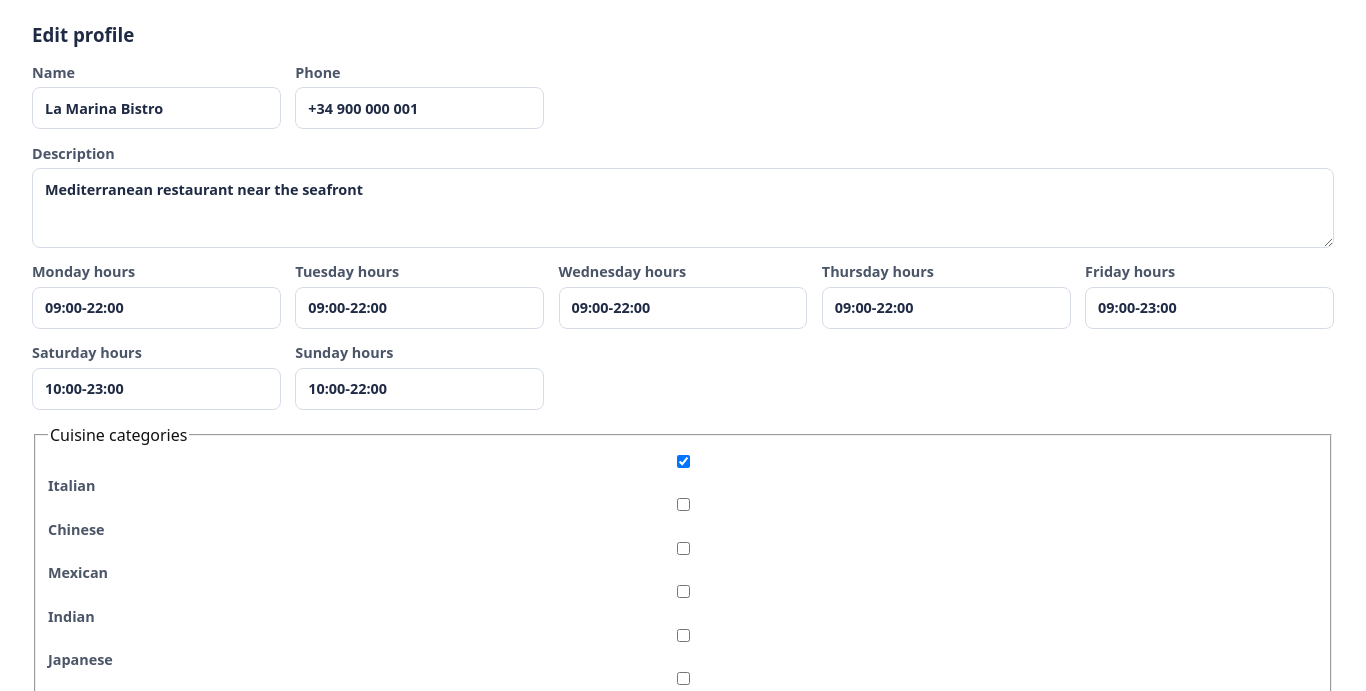
Scenario: RestaurantInformationPage › pads working hours on blur and submits edited profile payload
(page scrolled)
Replace the text in the field labelled "Monday hours" with "9-18" at (156, 308), box 32,287 -> 281,329
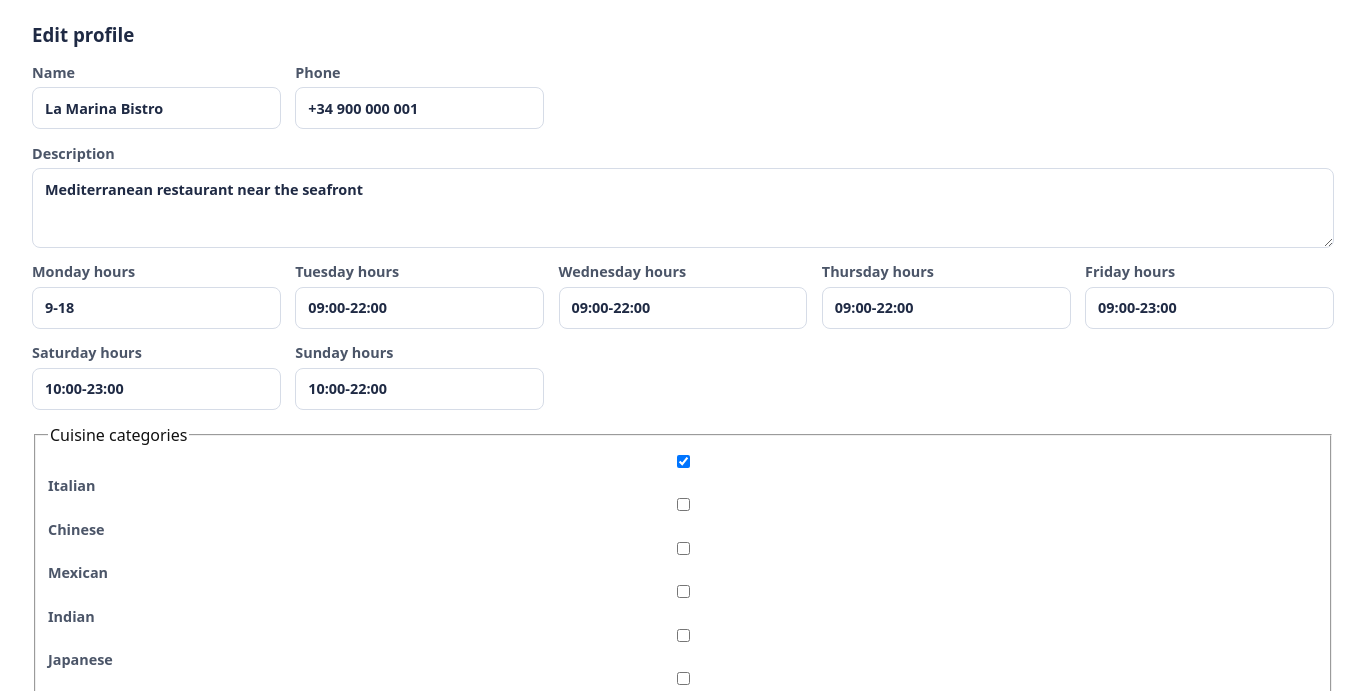
Leave the field labelled "Monday hours", box 32,287 -> 281,329
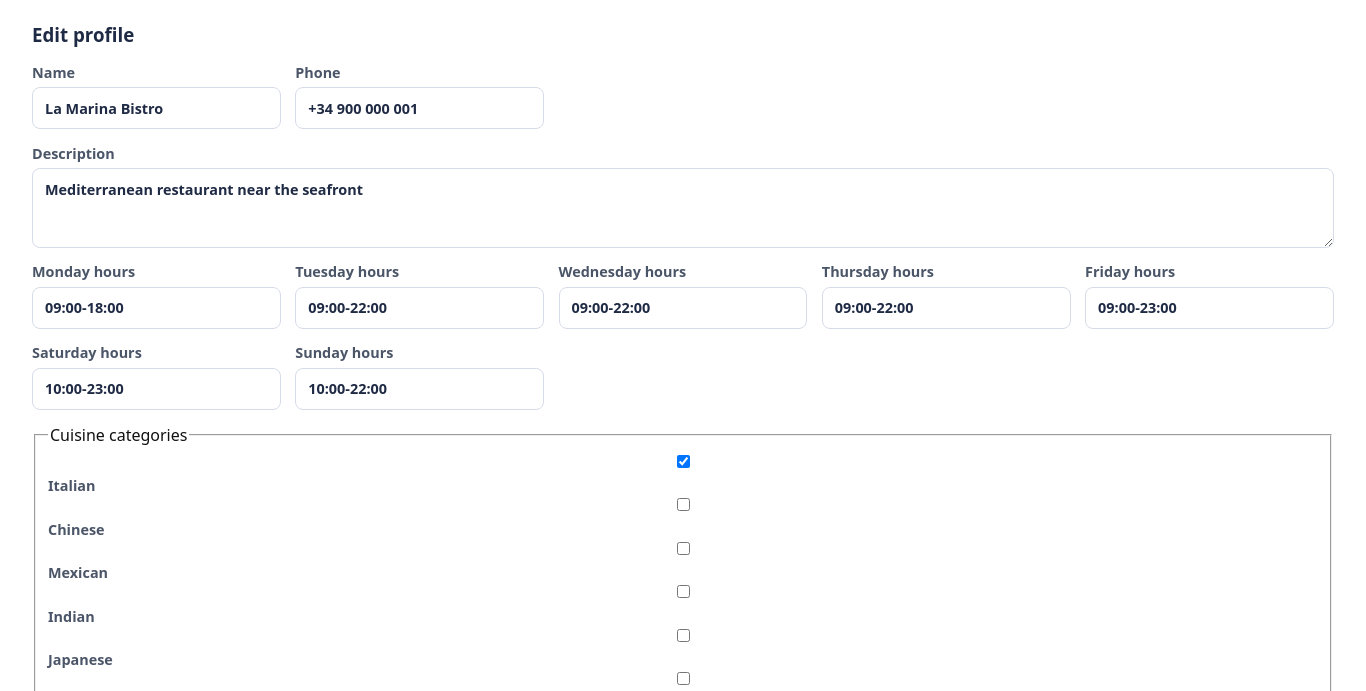
Check: the field labelled "Monday hours" holds "09:00-18:00", box 32,287 -> 281,329
Click the checkbox labelled "Japanese" at (684, 635), box 52,629 -> 1315,642
(page scrolled)
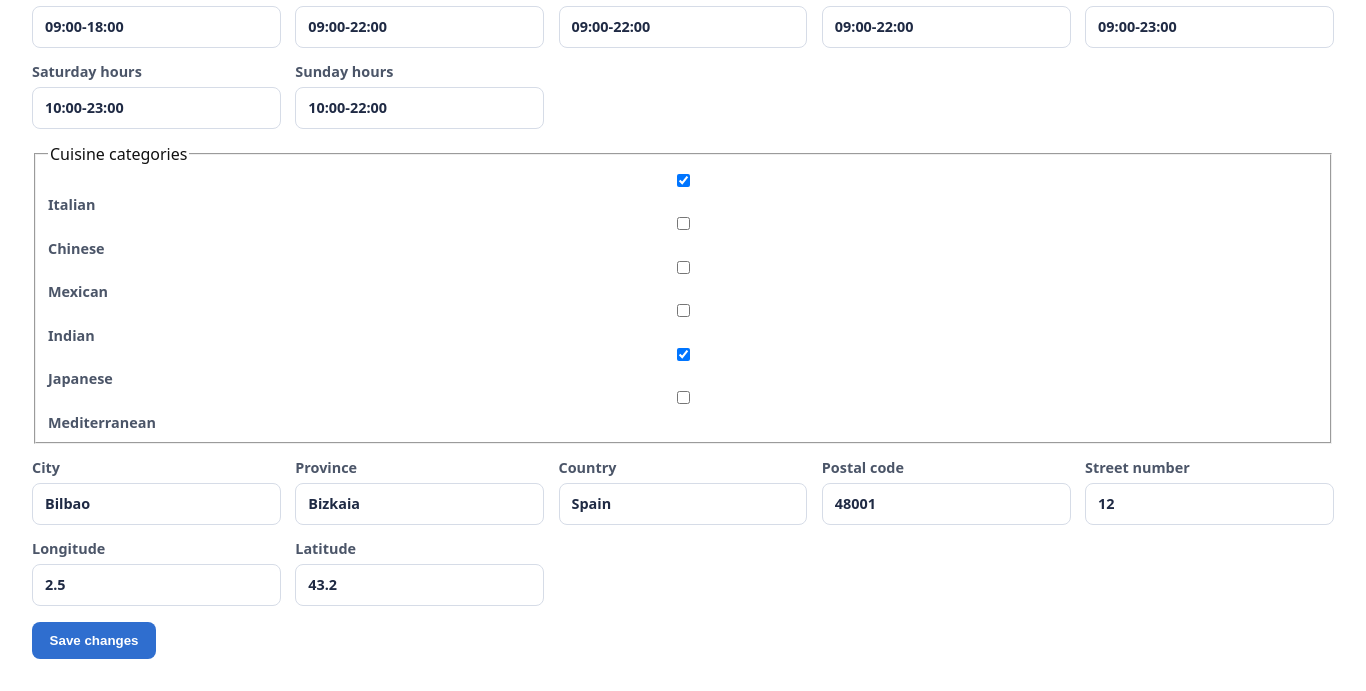
Replace the text in the field labelled "Longitude" with "2,75" at (156, 585), box 32,564 -> 281,606
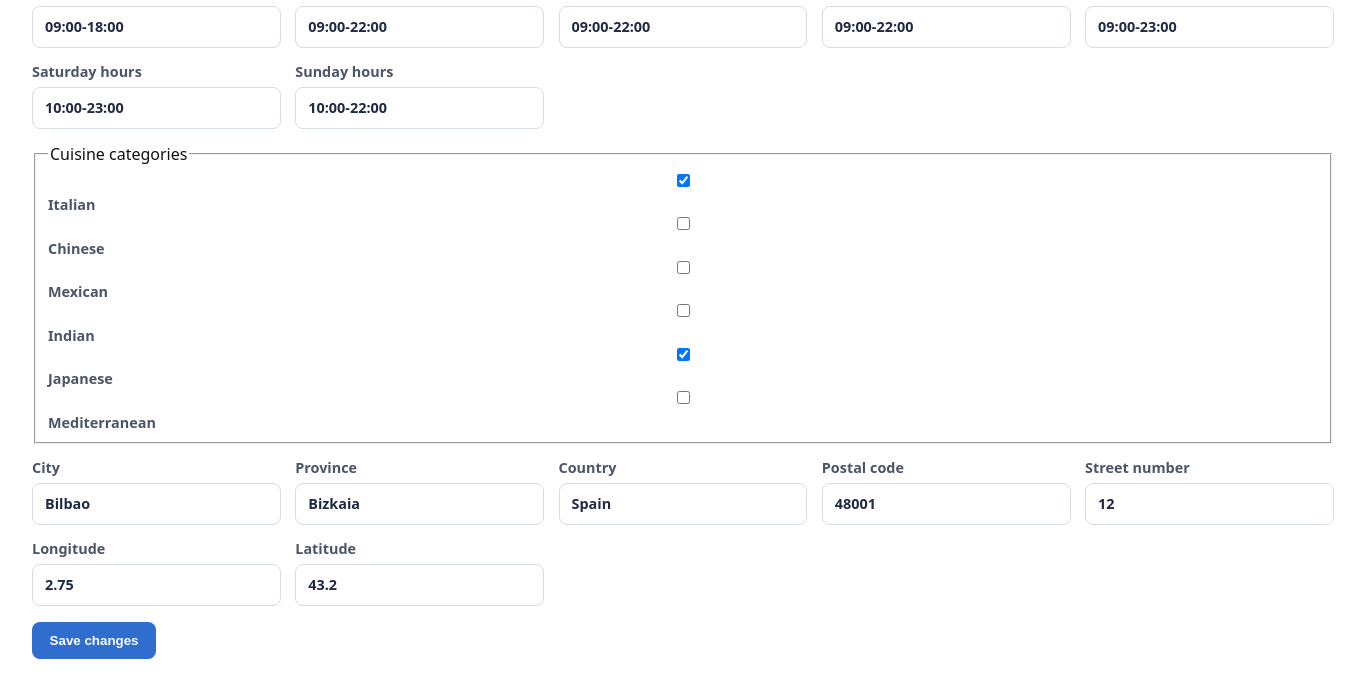
Replace the text in the field labelled "Latitude" with "43,11" at (420, 585), box 295,564 -> 544,606
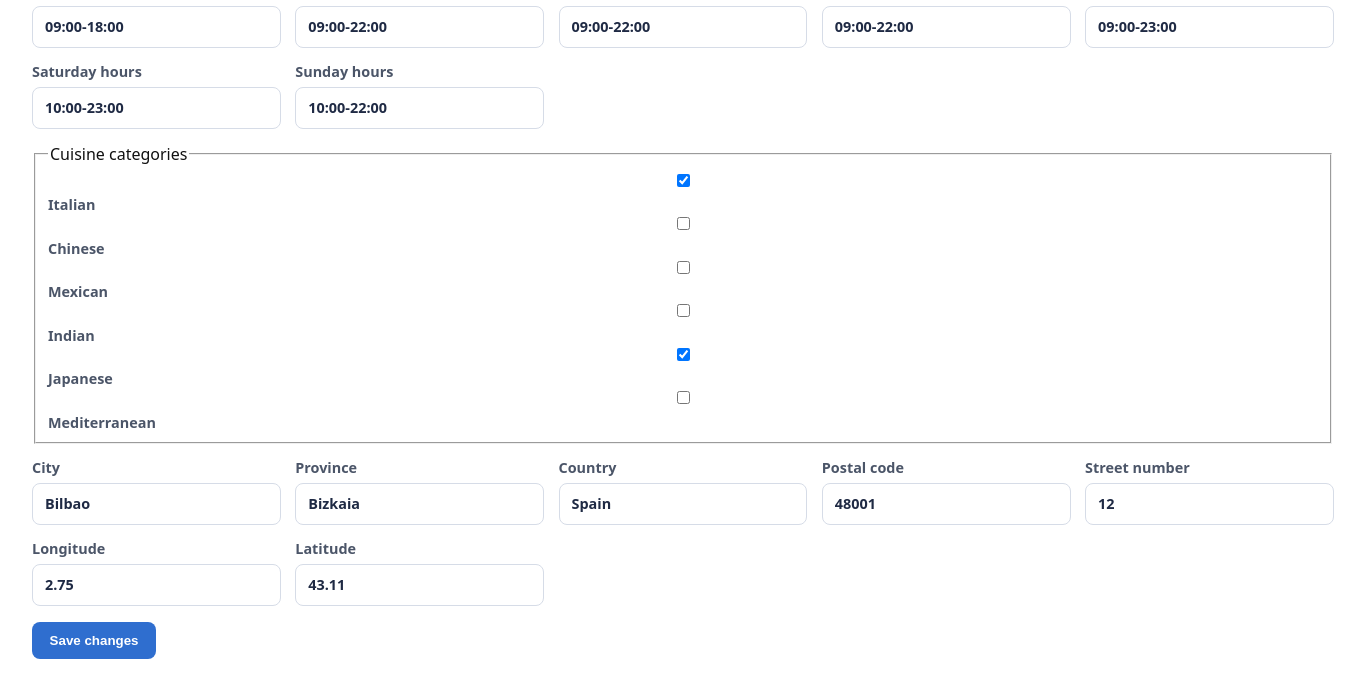
Click the button "Save changes" at (94, 640), box 32,622 -> 156,659
(page scrolled)
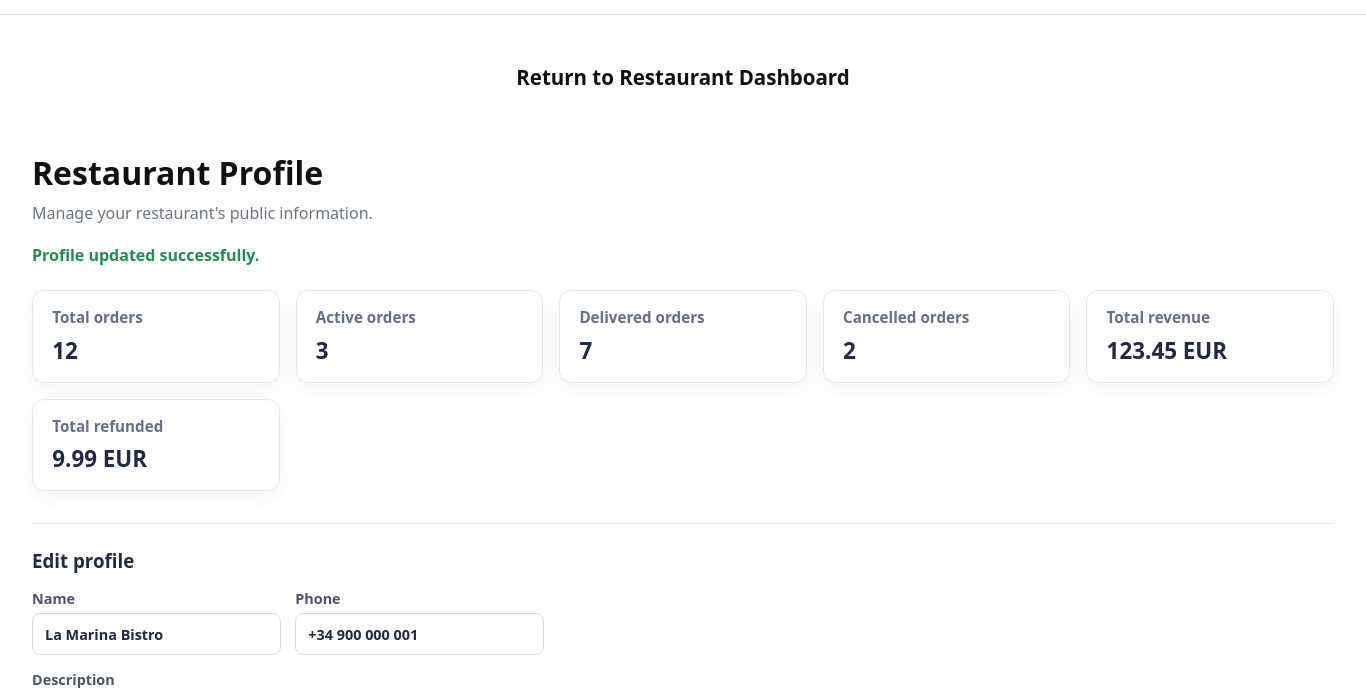
Check: the text "Profile updated successfully." is shown, box 32,244 -> 259,266
